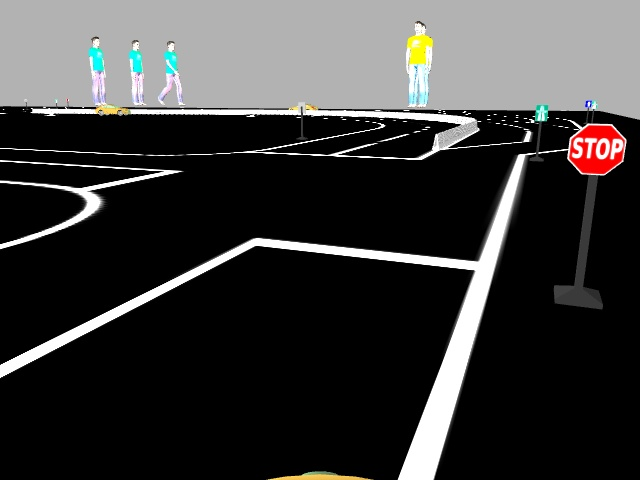Stop: (565, 122, 625, 174)
